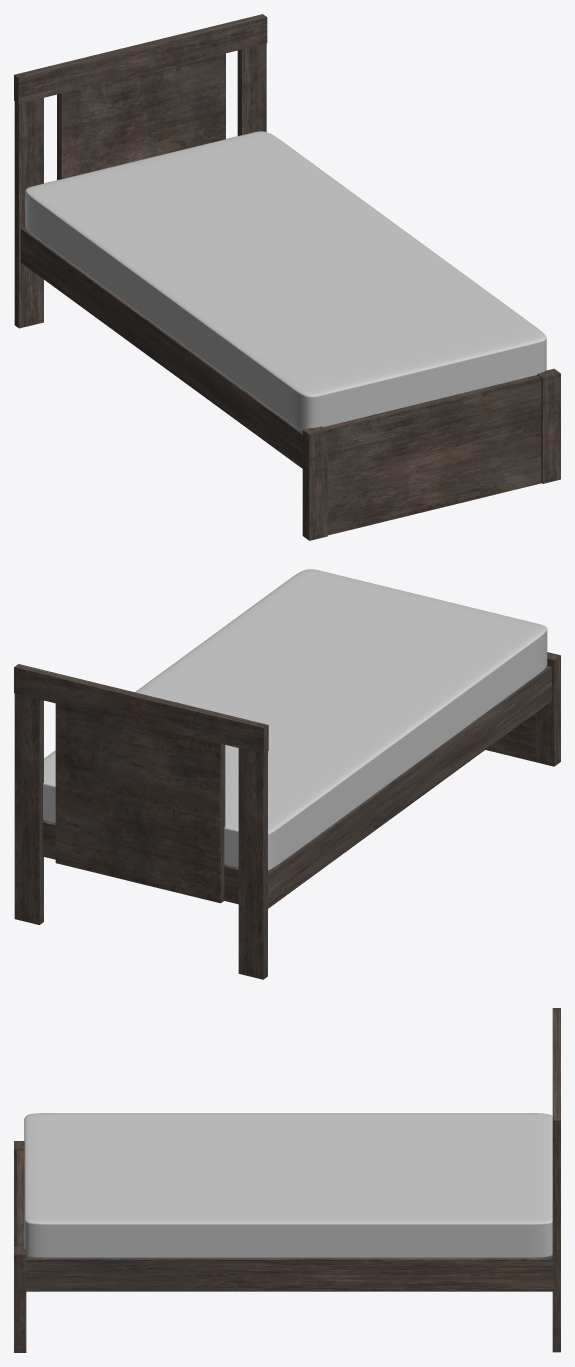
The model's file is SONGESAND.obj.
3 views of the same model, one above another, from view 1: azimuth 30°, elevation 25°; view 2: azimuth 150°, elevation 25°; view 3: azimuth 270°, elevation 25° (orthographic). The views are drawn at different scales.
Parts seen in each view (by area): view 1: Cube.005_Cube.006, Cube.001_Cube.002, Cube_Cube.001, Cube.002_Cube.003, Cube.008_Cube.009, Cube.006_Cube.007, Cube.004_Cube.005, Cube.007_Cube.008, Cube.003_Cube.004; view 2: Cube.005_Cube.006, Cube_Cube.001, Cube.002_Cube.003, Cube.008_Cube.009, Cube.006_Cube.007, Cube.007_Cube.008, Cube.004_Cube.005, Cube.001_Cube.002; view 3: Cube.005_Cube.006, Cube.002_Cube.003, Cube.007_Cube.008, Cube.003_Cube.004, Cube.008_Cube.009, Cube.001_Cube.002.
Part boxes in pixels (<box>): Cube.005_Cube.006: <box>25,131,546,431</box>; Cube.001_Cube.002: <box>323,375,541,535</box>; Cube_Cube.001: <box>57,53,225,179</box>; Cube.002_Cube.003: <box>20,227,302,468</box>; Cube.008_Cube.009: <box>14,14,267,103</box>; Cube.006_Cube.007: <box>14,98,43,328</box>; Cube.004_Cube.005: <box>302,426,327,540</box>; Cube.007_Cube.008: <box>237,43,266,135</box>; Cube.003_Cube.004: <box>537,368,560,483</box>; Cube.005_Cube.006: <box>43,569,547,870</box>; Cube_Cube.001: <box>55,703,225,903</box>; Cube.002_Cube.003: <box>43,666,551,908</box>; Cube.008_Cube.009: <box>14,664,268,753</box>; Cube.006_Cube.007: <box>238,748,267,979</box>; Cube.007_Cube.008: <box>14,693,43,924</box>; Cube.004_Cube.005: <box>536,652,560,766</box>; Cube.001_Cube.002: <box>485,713,535,761</box>; Cube.005_Cube.006: <box>24,1113,552,1258</box>; Cube.002_Cube.003: <box>26,1255,554,1291</box>; Cube.007_Cube.008: <box>552,1144,560,1352</box>; Cube.003_Cube.004: <box>14,1246,26,1352</box>; Cube.008_Cube.009: <box>552,1008,560,1144</box>; Cube.001_Cube.002: <box>17,1150,24,1246</box>.
Bounding box in the file's own units: 2.04 × 1.95 × 4.16.
